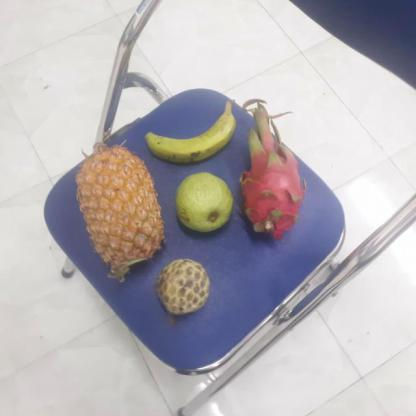annona: (152, 259, 211, 315)
banana: (145, 94, 237, 165)
guava: (174, 170, 234, 232)
pineapple: (74, 145, 165, 273)
pitaya: (233, 128, 305, 235)
